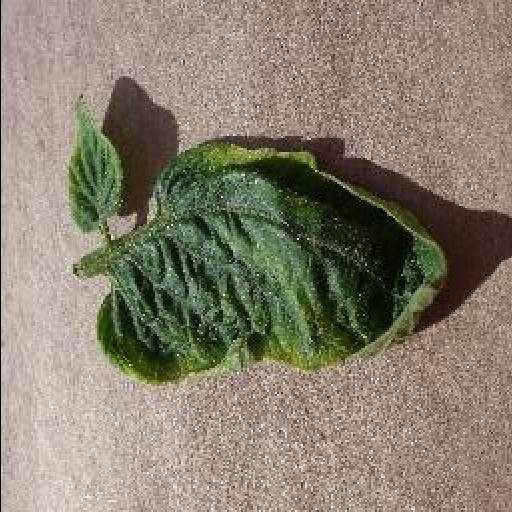disease_tomato: (92, 138, 452, 388), (66, 93, 126, 235)
